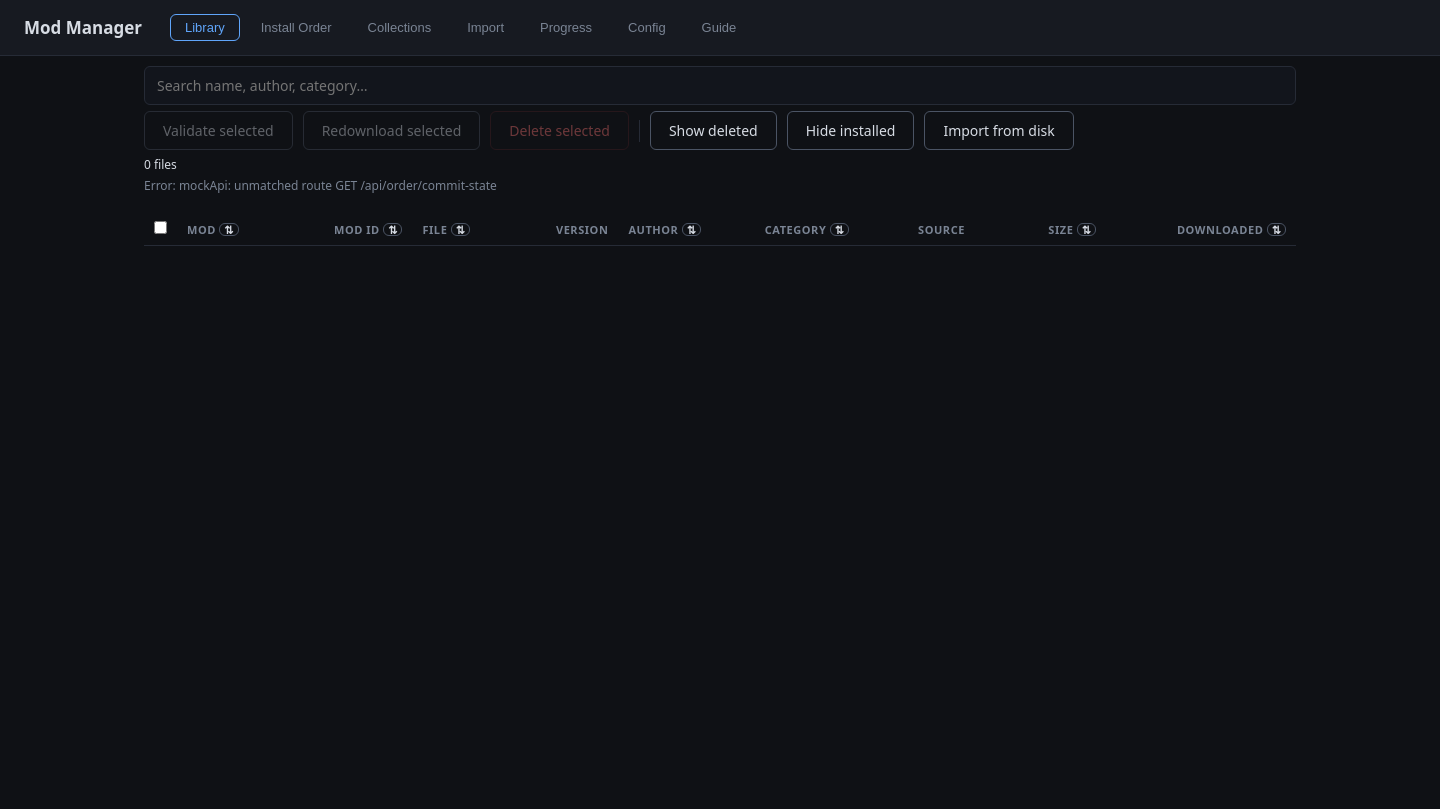
Scenario: App shell › renders the Guide tab content
This screenshot has width=1440, height=809.
Click the button "Guide".
click(719, 28)  # box x1=687 y1=14 x2=751 y2=41
(page scrolled)
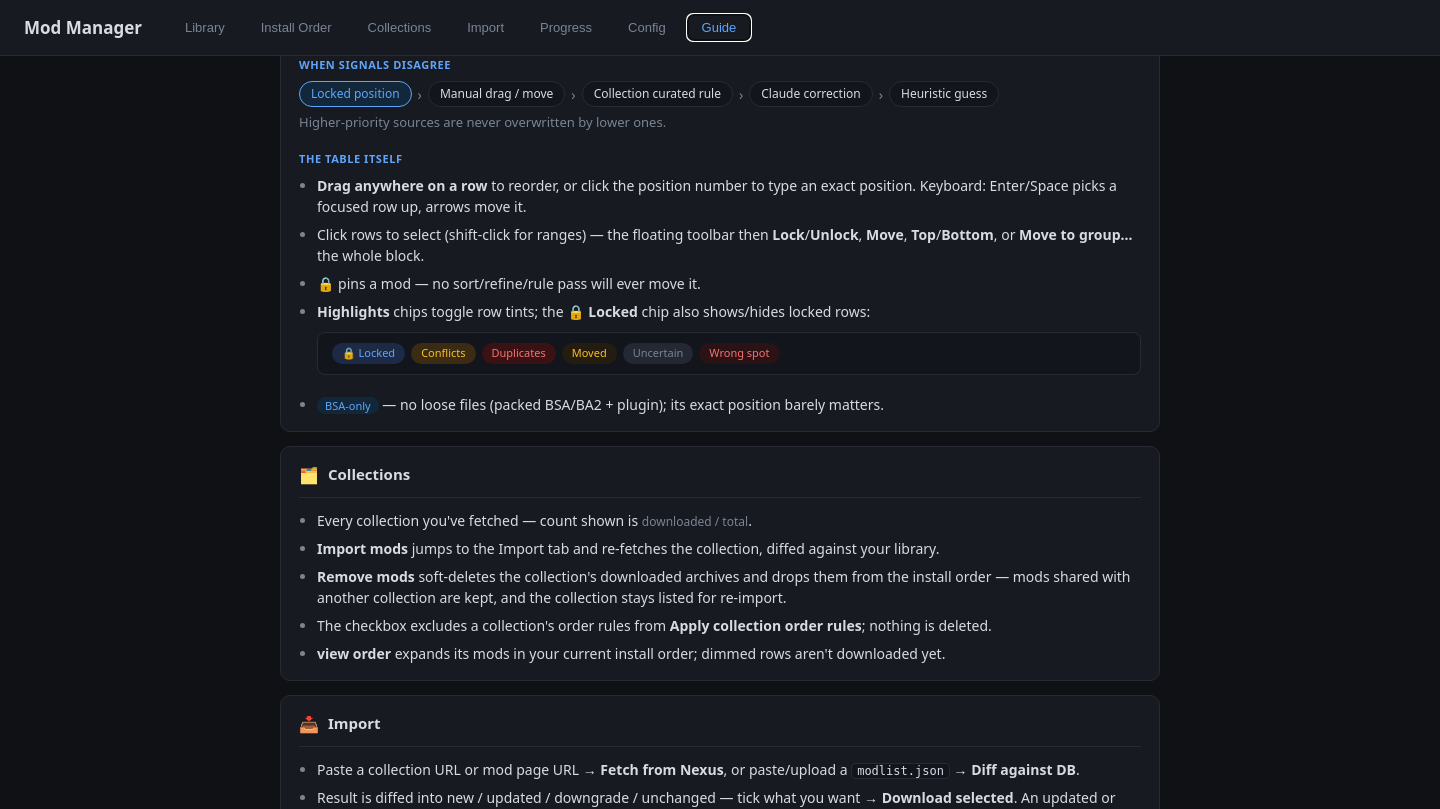
Now the text "BSA-only" is shown, box x1=317 y1=396 x2=379 y2=414
